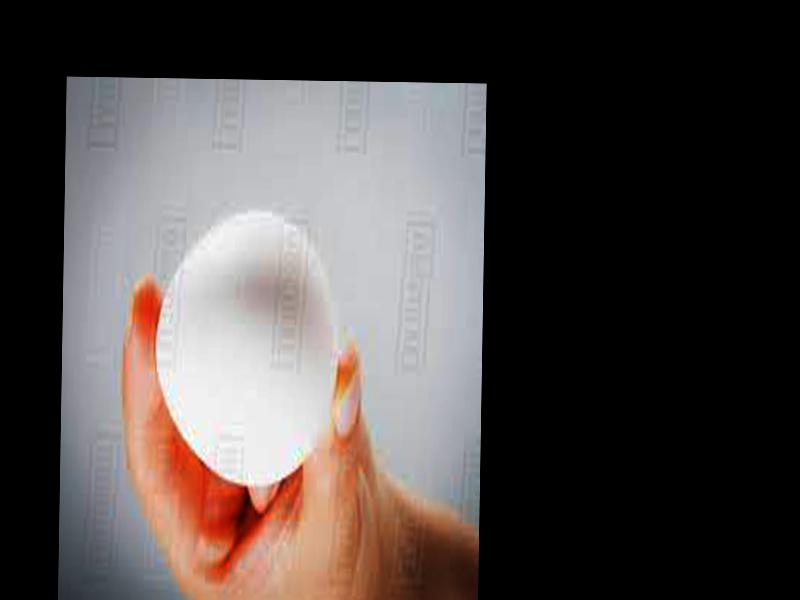Eggs: (153, 209, 336, 485)
